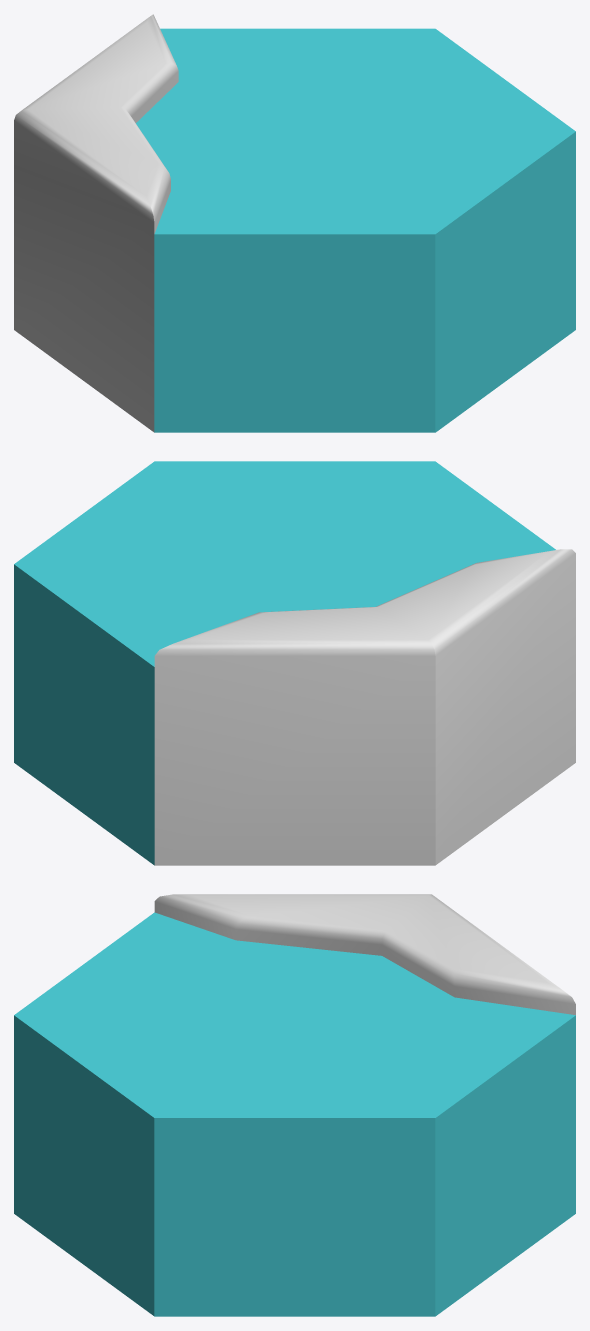
File: hex_snow_waterA.gltf.glb
3 renders of one model, top to bottom at view 1: azimuth 30°, elevation 25°; view 2: azimuth 150°, elevation 25°; view 3: azimuth 270°, elevation 25°, orthographic.
Visible parts, largest first — view 1: hex_snow_waterA; view 2: hex_snow_waterA; view 3: hex_snow_waterA.
Part boxes in pixels (x1,y1,x2,y2): hex_snow_waterA: (14, 14, 575, 432); hex_snow_waterA: (14, 461, 575, 865); hex_snow_waterA: (14, 894, 575, 1316).
Size of the model in its own units: 2 by 1 by 2.31.
